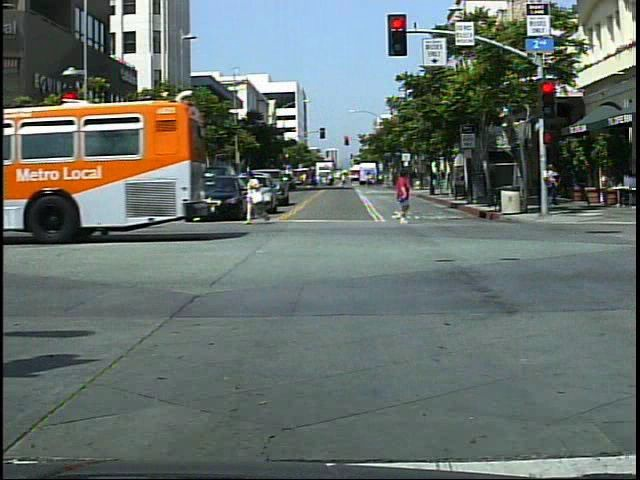person: (131, 169, 162, 236), (243, 166, 274, 230), (389, 166, 415, 229), (546, 162, 564, 211)
